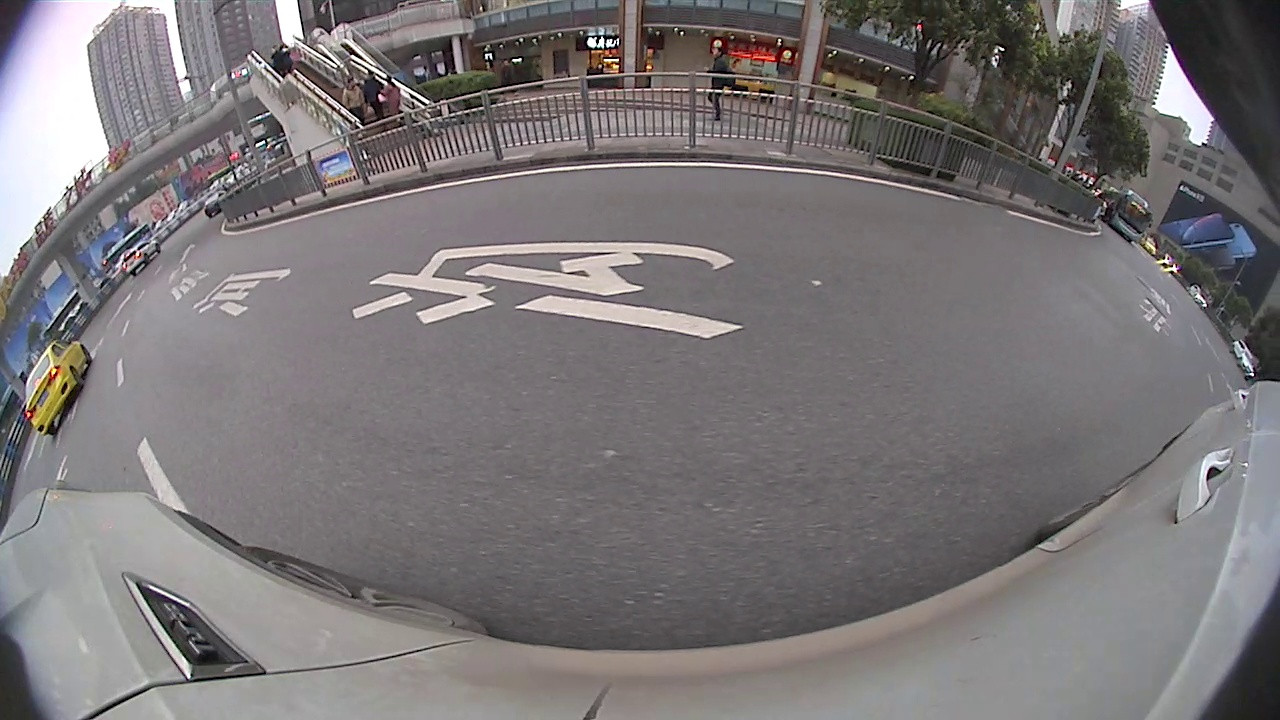car: (958, 148, 1092, 278), (1110, 298, 1213, 415), (132, 168, 222, 247), (1, 325, 55, 385)
front: (1059, 249, 1086, 275), (163, 213, 178, 236)
rear: (1010, 216, 1043, 252), (139, 228, 155, 249)
